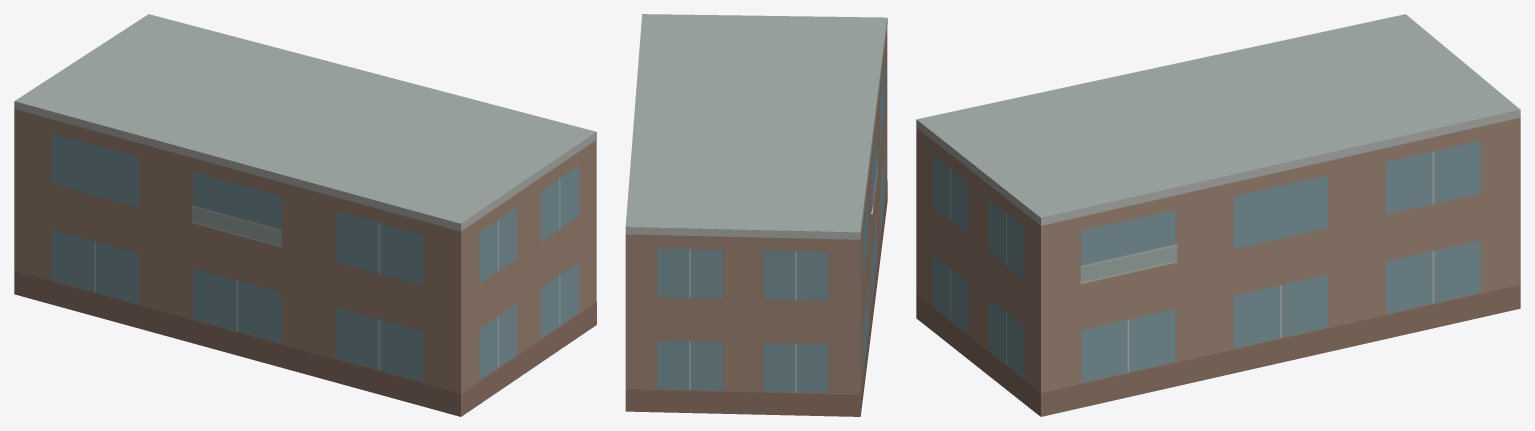
File: survey-upis-32727589.glb
The picture shows the model from 3 angles, left to right: view 1: azimuth 30°, elevation 25°; view 2: azimuth 150°, elevation 25°; view 3: azimuth 270°, elevation 25°; orthographic projection. The views are drawn at different scales.
Visible parts, largest first — view 1: survey-upis-32727589.tmp; view 2: survey-upis-32727589.tmp; view 3: survey-upis-32727589.tmp.
Part boxes in pixels (x1,y1,x2,y2): survey-upis-32727589.tmp: (14,14,596,416); survey-upis-32727589.tmp: (625,14,887,416); survey-upis-32727589.tmp: (916,14,1520,416).
Bounding box in the file's own units: 13.42 × 6.1 × 16.8.
